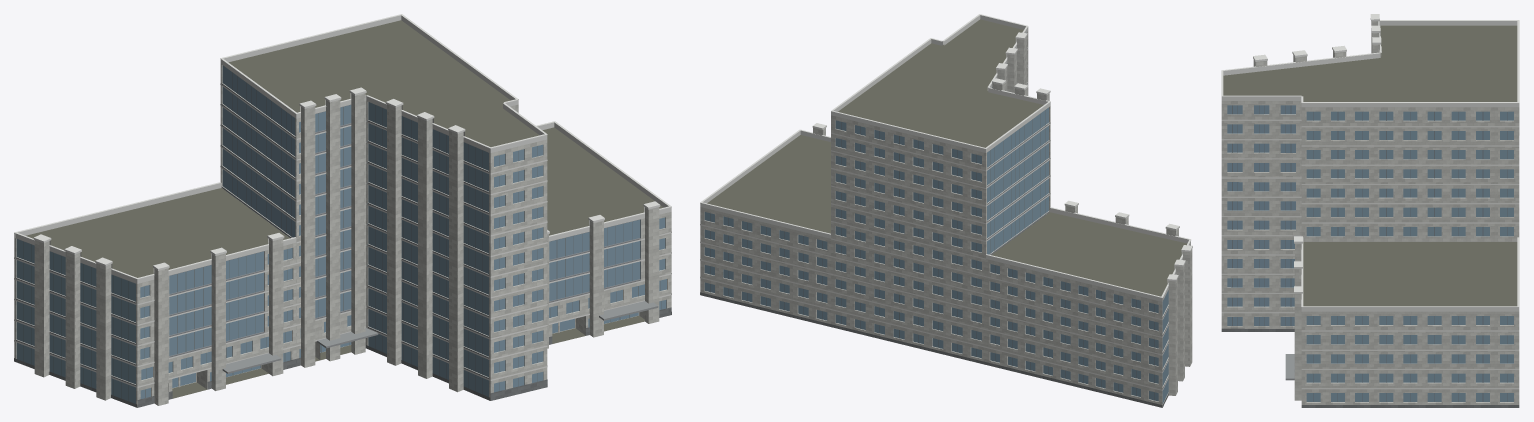
3 views of the same model, side by side, from view 1: azimuth 30°, elevation 25°; view 2: azimuth 150°, elevation 25°; view 3: azimuth 270°, elevation 25° (orthographic). The views are drawn at different scales.
Visible parts, largest first — view 1: mirae__wall, mirae__glass, mirae__roof, mirae__trim, mirae__parapet, mirae__frame, mirae__spandrel, mirae__base, mirae__canopy, mirae__wall2; view 2: mirae__wall, mirae__roof, mirae__glass, mirae__trim, mirae__parapet, mirae__frame, mirae__base, mirae__spandrel; view 3: mirae__wall, mirae__roof, mirae__glass, mirae__trim, mirae__parapet, mirae__frame, mirae__base.
Boxes of the visible parts, x1,y1,x2,y2 form: mirae__wall: [14, 64, 671, 407]; mirae__glass: [16, 65, 666, 403]; mirae__roof: [26, 20, 663, 398]; mirae__trim: [14, 14, 671, 387]; mirae__parapet: [14, 15, 671, 283]; mirae__frame: [23, 72, 661, 400]; mirae__spandrel: [16, 83, 640, 385]; mirae__base: [14, 307, 671, 407]; mirae__canopy: [222, 301, 658, 373]; mirae__wall2: [169, 104, 640, 356]; mirae__wall: [700, 30, 1192, 407]; mirae__roof: [707, 19, 1186, 296]; mirae__glass: [704, 33, 1168, 403]; mirae__trim: [700, 14, 1192, 390]; mirae__parapet: [700, 15, 1190, 301]; mirae__frame: [710, 110, 1154, 400]; mirae__base: [700, 292, 1168, 407]; mirae__spandrel: [987, 48, 1168, 388]; mirae__wall: [1221, 21, 1519, 404]; mirae__roof: [1223, 25, 1517, 306]; mirae__glass: [1227, 105, 1513, 401]; mirae__trim: [1221, 14, 1519, 389]; mirae__parapet: [1221, 21, 1519, 311]; mirae__frame: [1232, 105, 1507, 401]; mirae__base: [1221, 328, 1519, 407].
Bounding box in the file's own units: 102 × 46.87 × 52.02.
11 materials, 2 textured.
